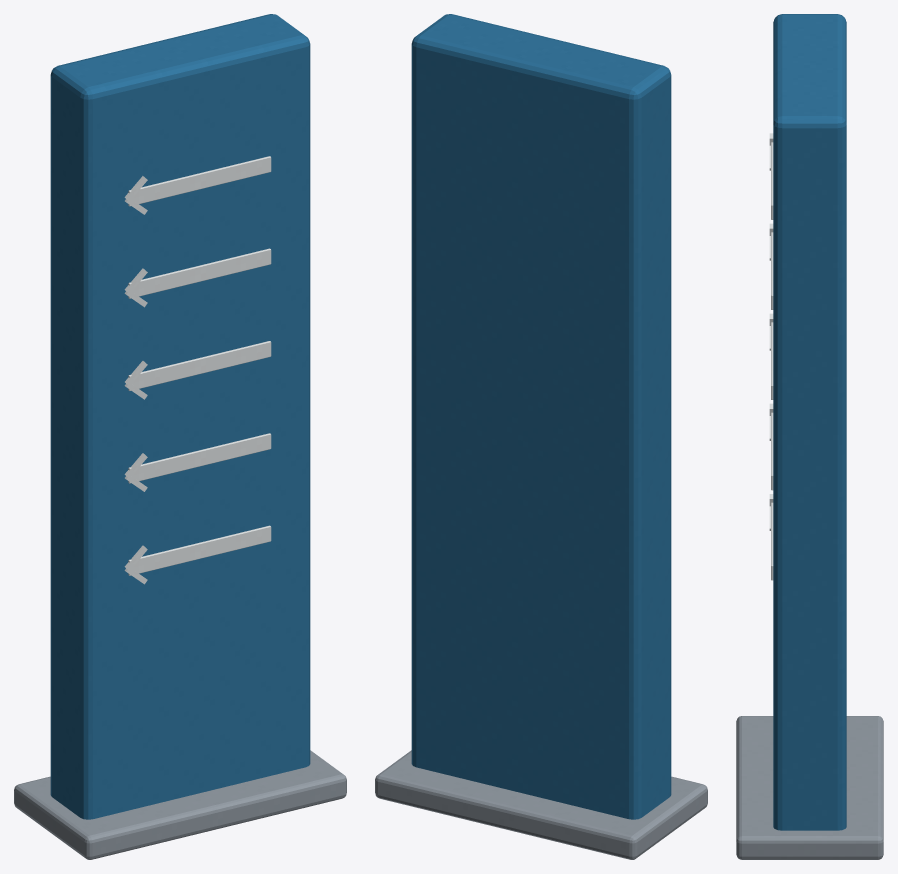
Rendered from wayfinding-totem.glb.
3 views of the same model, side by side, from view 1: azimuth 30°, elevation 25°; view 2: azimuth 150°, elevation 25°; view 3: azimuth 270°, elevation 25° (orthographic). The views are drawn at different scales.
Parts seen in each view (by area): view 1: Wayfinding totem, Information display plinth, Original wayfinding bar, Original wayfinding bar.003, Original wayfinding bar.001, Original wayfinding bar.004, Original wayfinding bar.002; view 2: Wayfinding totem, Information display plinth; view 3: Wayfinding totem, Information display plinth.
Boxes of the visible parts, x1=… form: Wayfinding totem: x1=50, y1=14, x2=310, y2=819; Information display plinth: x1=14, y1=750, x2=346, y2=859; Original wayfinding bar: x1=128, y1=156, x2=271, y2=206; Original wayfinding bar.003: x1=128, y1=433, x2=271, y2=483; Original wayfinding bar.001: x1=128, y1=248, x2=271, y2=298; Original wayfinding bar.004: x1=128, y1=525, x2=271, y2=575; Original wayfinding bar.002: x1=128, y1=341, x2=271, y2=390; Wayfinding totem: x1=411, y1=14, x2=671, y2=819; Information display plinth: x1=375, y1=750, x2=707, y2=859; Wayfinding totem: x1=773, y1=14, x2=846, y2=830; Information display plinth: x1=736, y1=716, x2=883, y2=859.
Size of the model in its own units: 0.8 by 2.2 by 0.4.
3 materials, 3 textured.
